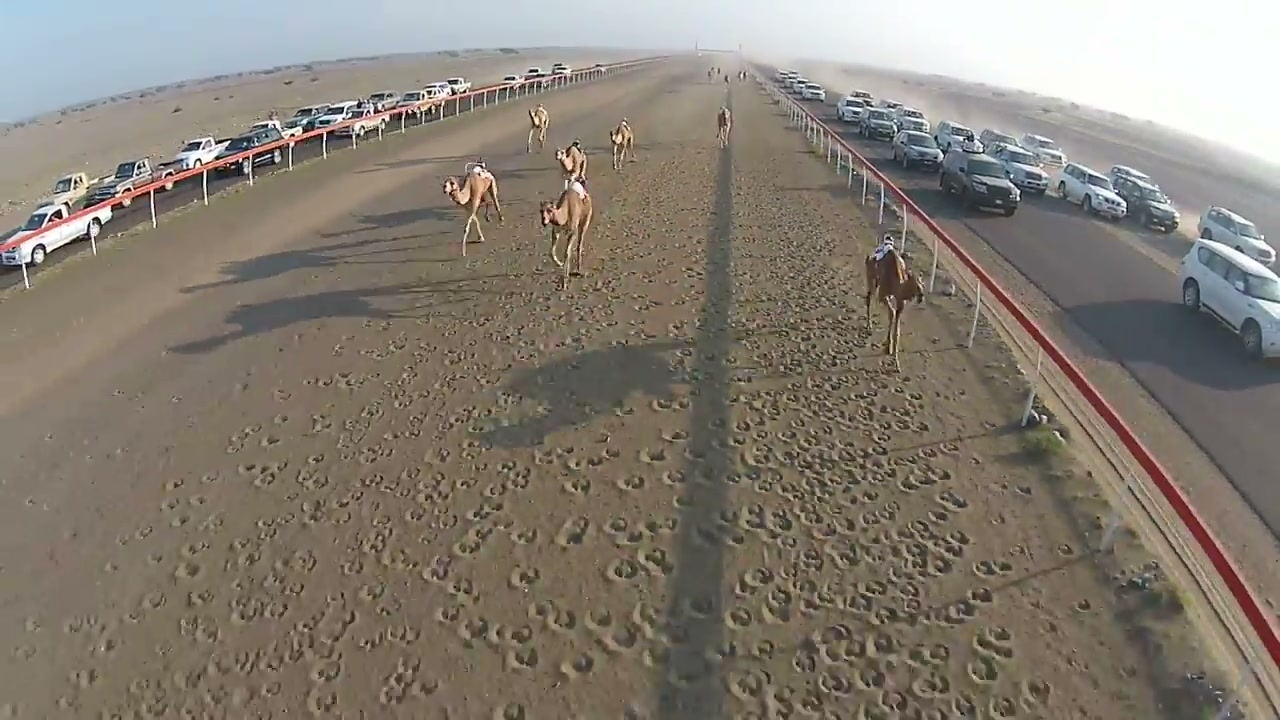animal_foot_print: (0, 103, 1167, 719)
